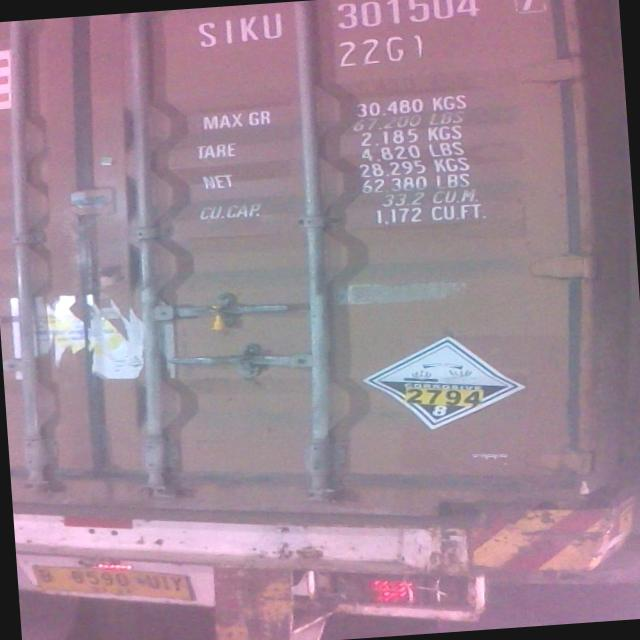seal: (201, 298, 234, 332)
